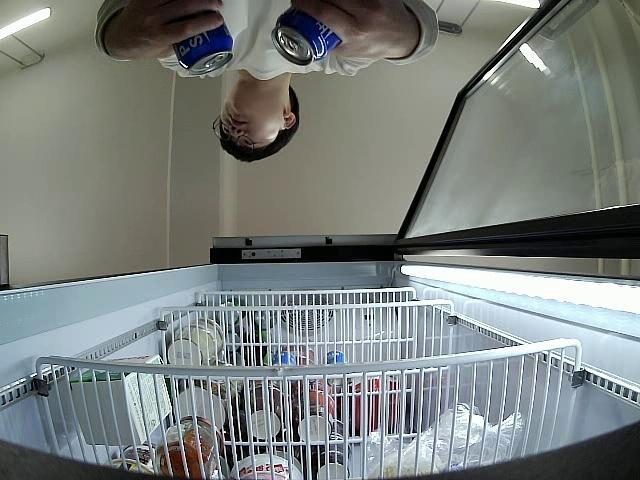13_pocariSweat: (270, 5, 344, 66), (173, 19, 234, 76)
